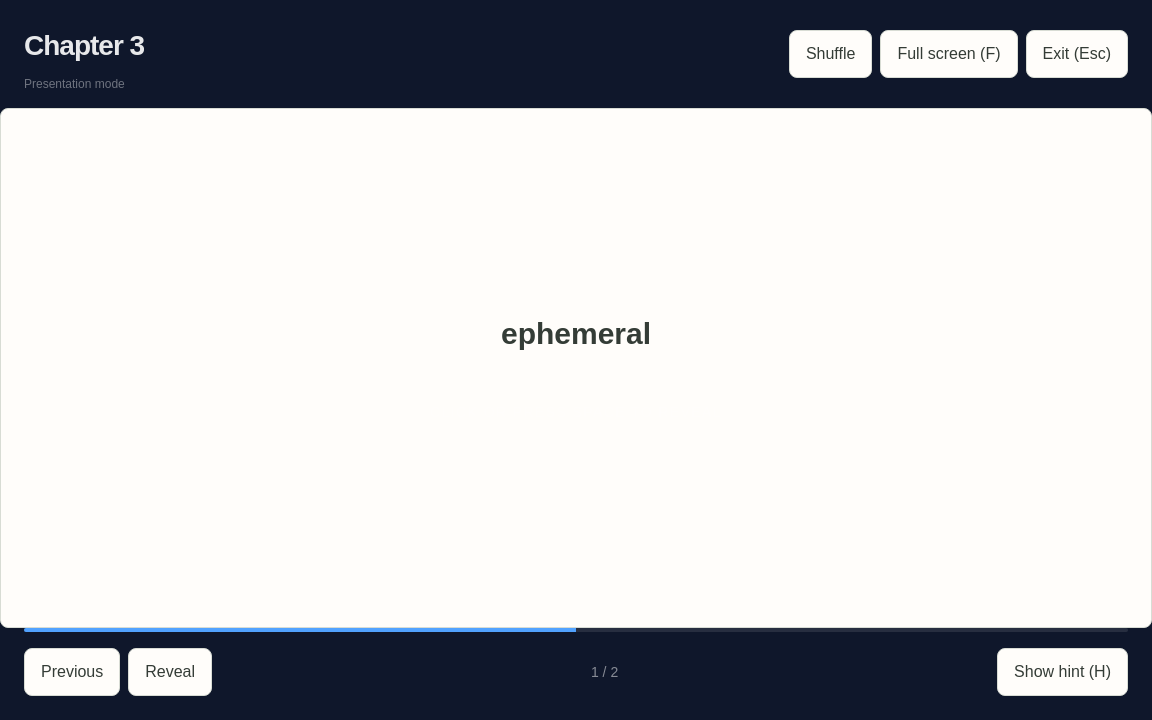
DeckPresentPage › reveals the answer, then advances to the next card
Check: the text "ephemeral" is shown, box [501,317,651,350]
Click the button "Reveal" at (170, 672), box [128,648,212,696]
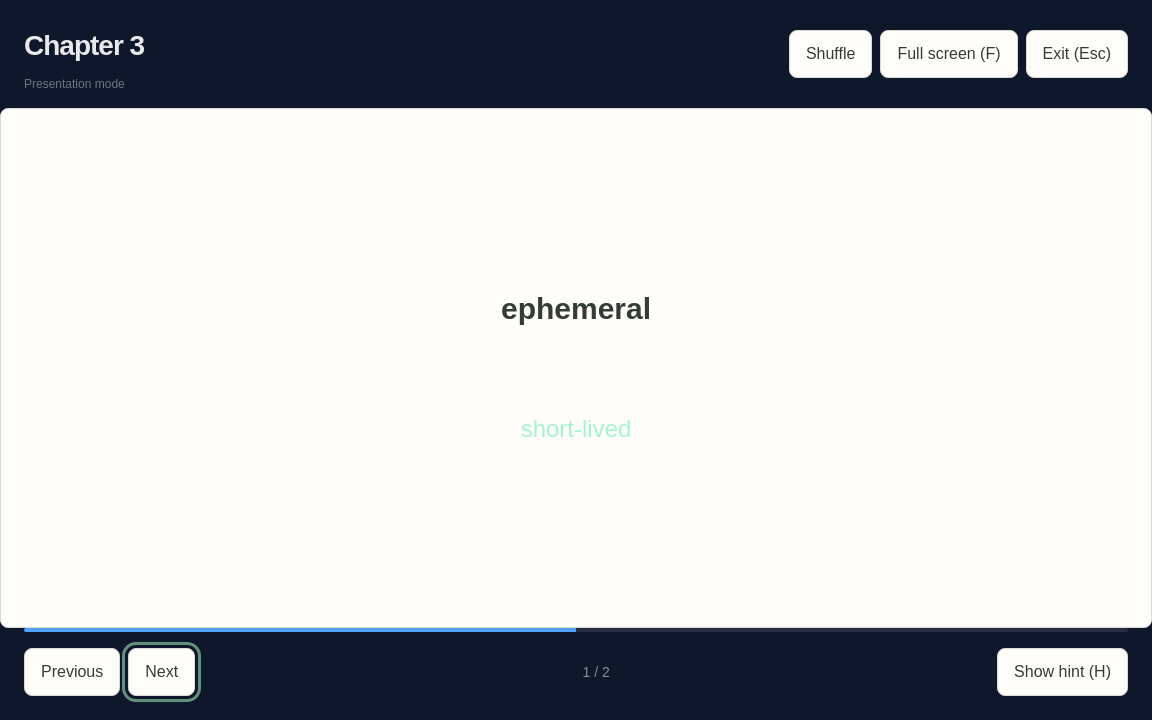
Check: the text "short-lived" is shown, box [521,415,631,442]
Click the button "Next" at (162, 672), box [128,648,195,696]
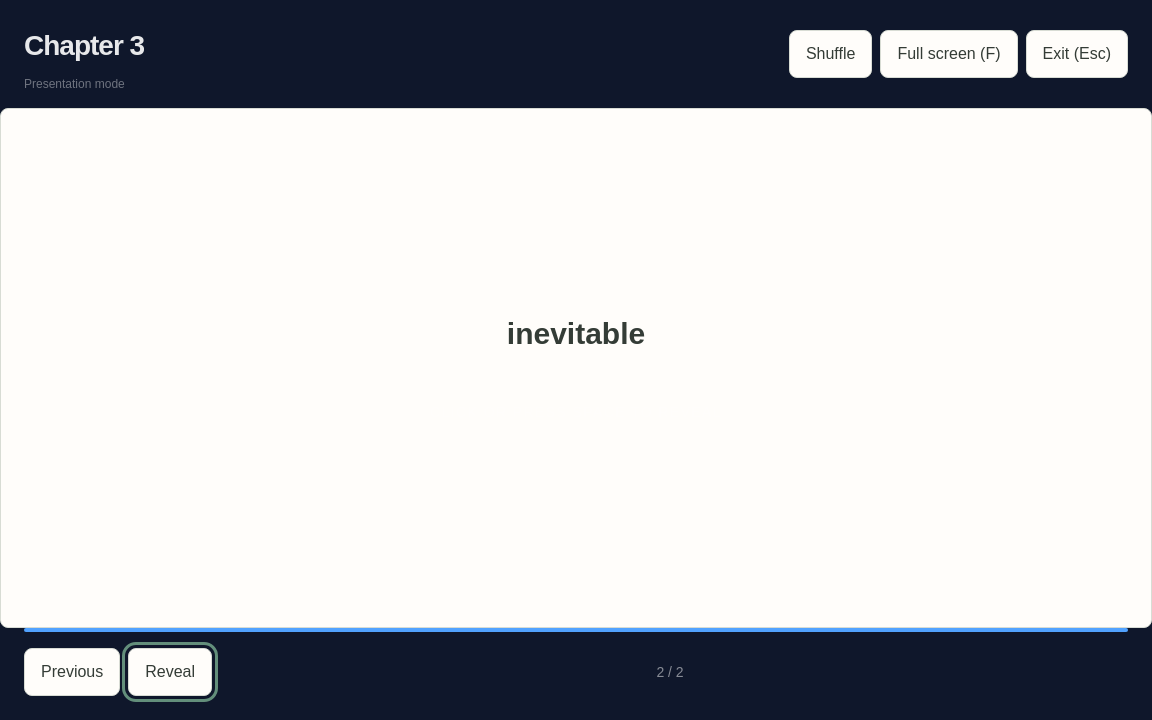
Check: the text "inevitable" is shown, box [507,317,645,350]
Check: the text "2 / 2" is shown, box [656,662,684,682]
